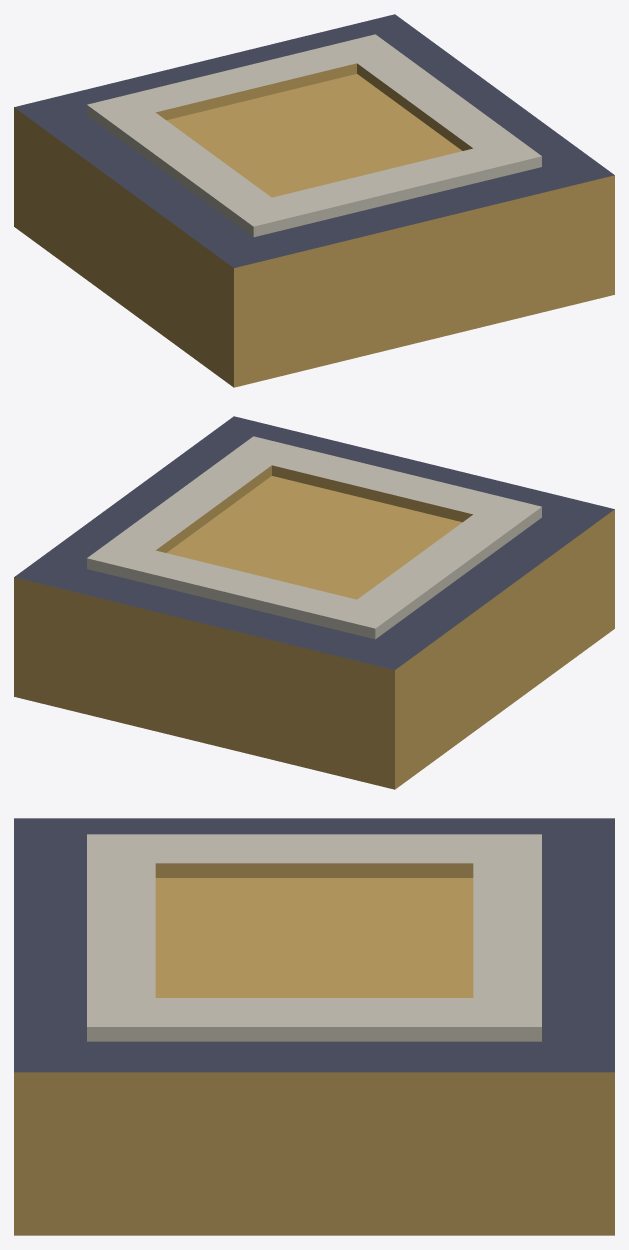
The model's file is Button02.fbx.
The picture shows the model from 3 angles, top to bottom: view 1: azimuth 30°, elevation 25°; view 2: azimuth 150°, elevation 25°; view 3: azimuth 270°, elevation 25°; orthographic projection. The views are drawn at different scales.
Parts seen in each view (by area): view 1: Fläche.010; view 2: Fläche.010; view 3: Fläche.010.
Boxes of the visible parts, left/top/right/bottom form: Fläche.010: left=14, top=14, right=614, bottom=387; Fläche.010: left=14, top=416, right=614, bottom=789; Fläche.010: left=14, top=818, right=614, bottom=1235.
Size of the model in its own units: 200 by 65.35 by 200.
